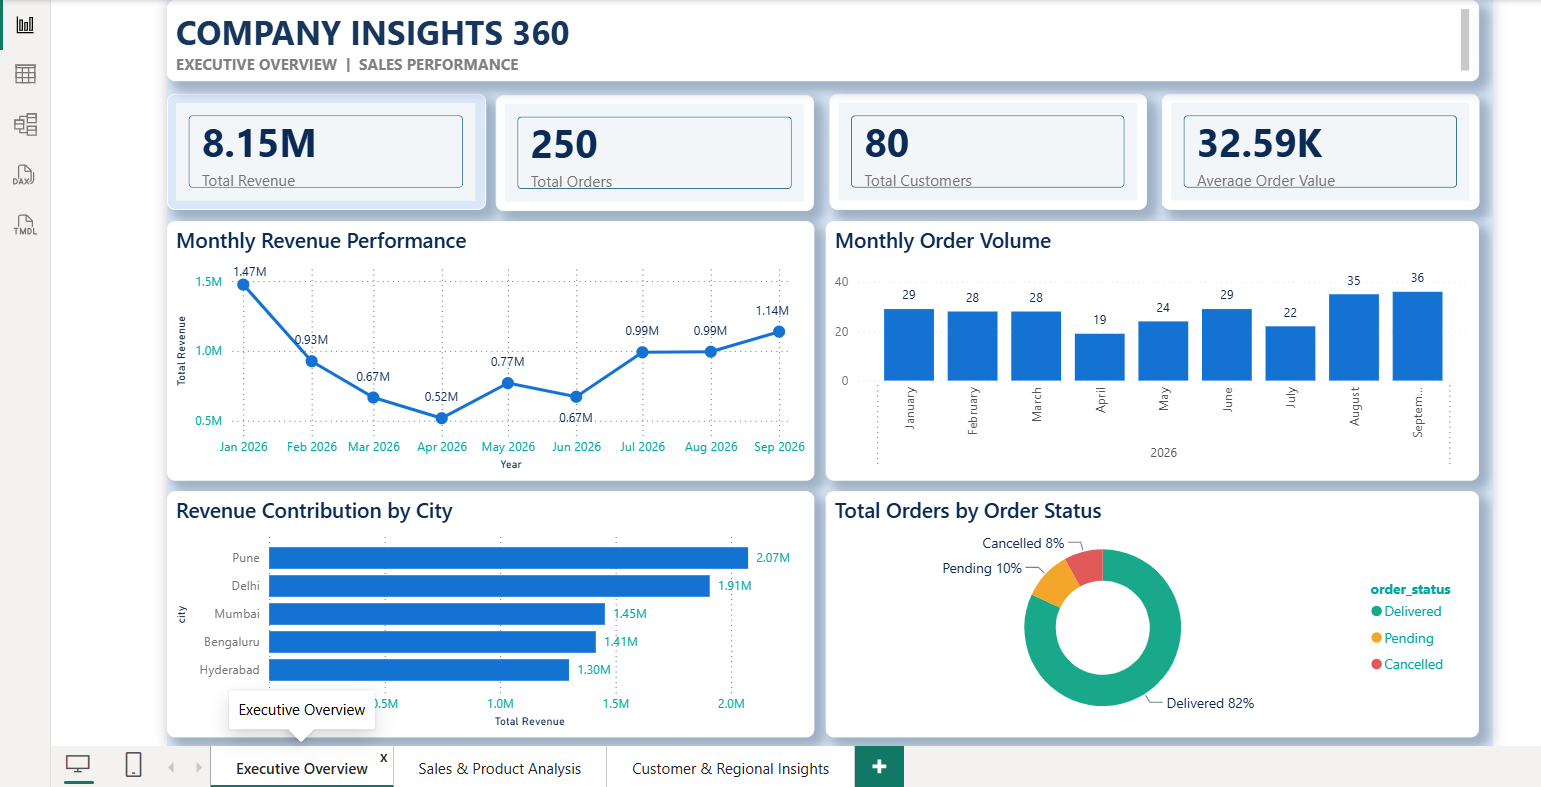

This screenshot's page, from the dashboard's own definition file:
{"tool":"powerbi","page":{"name":"Executive Overview","canvas":[1280,720],"ordinal":0},"visuals":[{"type":"cardVisual","title":"Total Revenue","fields":{"Data":["customers.Total Revenue"]},"box":[0,90.5,307.6,112.2],"z":0},{"type":"cardVisual","title":"Total Orders","fields":{"Data":["orders.Total Orders"]},"box":[317.3,91.7,307,112.2],"z":1000},{"type":"cardVisual","title":"Total Customers","fields":{"Data":["customers.Total Customers"]},"box":[639.4,90.5,306.4,112.2],"z":2000},{"type":"cardVisual","title":"Average Order Value","fields":{"Data":["orders.Average Order Value"]},"box":[960.3,90.5,306.4,112.2],"z":3000},{"type":"lineChart","title":"Monthly Revenue Performance","fields":{"Y":["customers.Total Revenue"],"Category":["orders.order_date.Variation.Date Hierarchy.Year","orders.order_date.Variation.Date Hierarchy.Month"]},"box":[0,213.8,625,250],"z":4000},{"type":"clusteredColumnChart","title":"Monthly Order Volume","fields":{"Y":["orders.Total Orders"],"Category":["orders.order_date.Variation.Date Hierarchy.Year","orders.order_date.Variation.Date Hierarchy.Month"]},"box":[636.2,213.8,630,250],"z":5000},{"type":"clusteredBarChart","title":"Revenue Contribution by City","fields":{"Y":["customers.Total Revenue"],"Category":["customers.city"]},"box":[0,473.8,625,237.5],"z":6000},{"type":"donutChart","title":"Total Orders by Order Status","fields":{"Y":["orders.Total Orders"],"Category":["orders.order_status"]},"box":[636.2,473.8,630,237.5],"z":10000},{"type":"textbox","box":[0,0,1266.2,78.8],"z":11000}]}

Visuals, with their boxes in screenshot pixels (x1, y1, x2, y2):
"Total Revenue" cardVisual: [left=161, top=90, right=480, bottom=207]
"Total Orders" cardVisual: [left=490, top=91, right=809, bottom=208]
"Total Customers" cardVisual: [left=825, top=90, right=1143, bottom=207]
"Average Order Value" cardVisual: [left=1158, top=90, right=1477, bottom=207]
"Monthly Revenue Performance" lineChart: [left=161, top=218, right=810, bottom=478]
"Monthly Order Volume" clusteredColumnChart: [left=822, top=218, right=1476, bottom=478]
"Revenue Contribution by City" clusteredBarChart: [left=161, top=488, right=810, bottom=735]
"Total Orders by Order Status" donutChart: [left=822, top=488, right=1476, bottom=735]
textbox: [left=161, top=0, right=1476, bottom=78]
